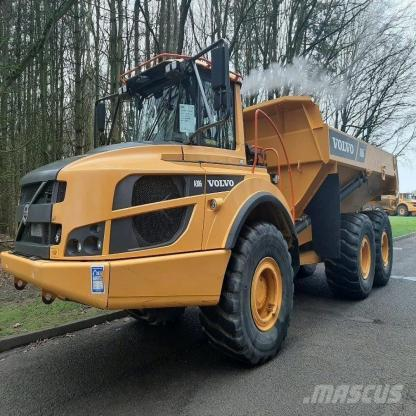dump_truck: (3, 37, 413, 366)
